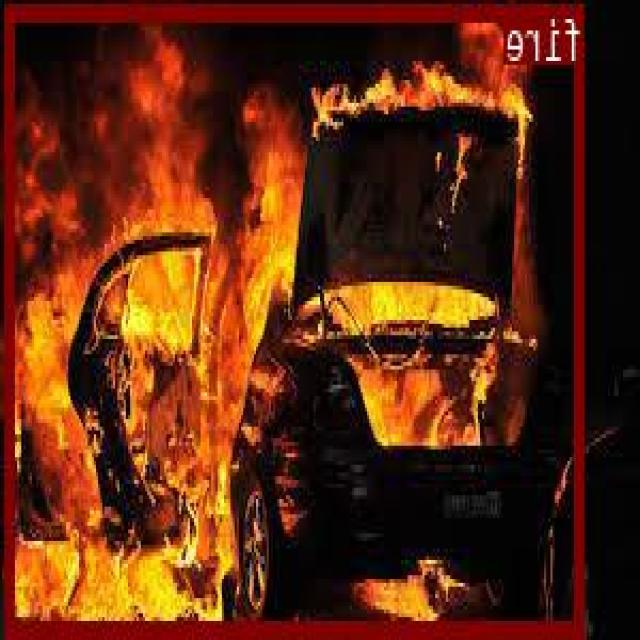fire: (9, 0, 586, 632)
